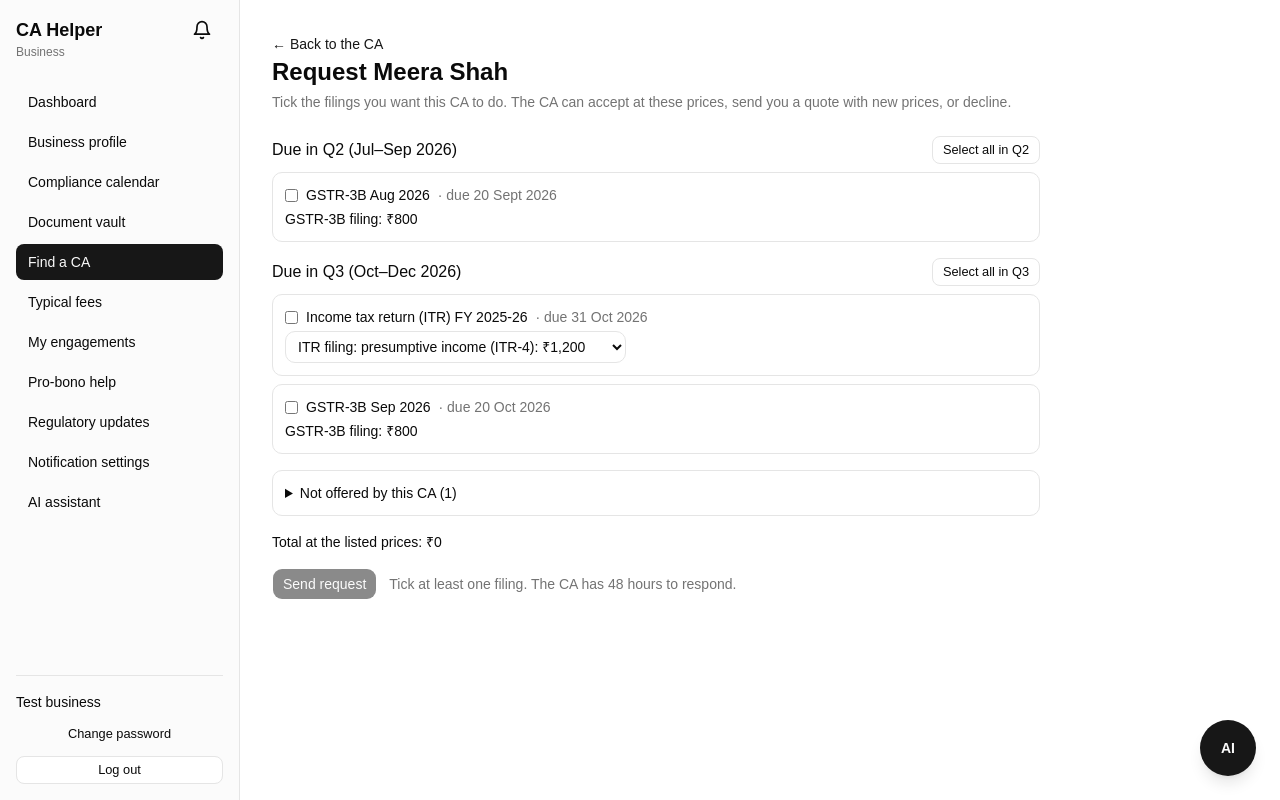
Test: Request this CA page › groups filings by quarter, selects a quarter at once, and folds away unpriced ones
expect the heading "Due in Q2 (Jul–Sep 2026)" is shown: met, box top-left (272, 138), bottom-right (457, 162)
expect the heading "Due in Q3 (Oct–Dec 2026)" is shown: met, box top-left (272, 260), bottom-right (461, 284)
Click the button "Select all in Q3": (986,272) top-left (932, 258), bottom-right (1040, 286)
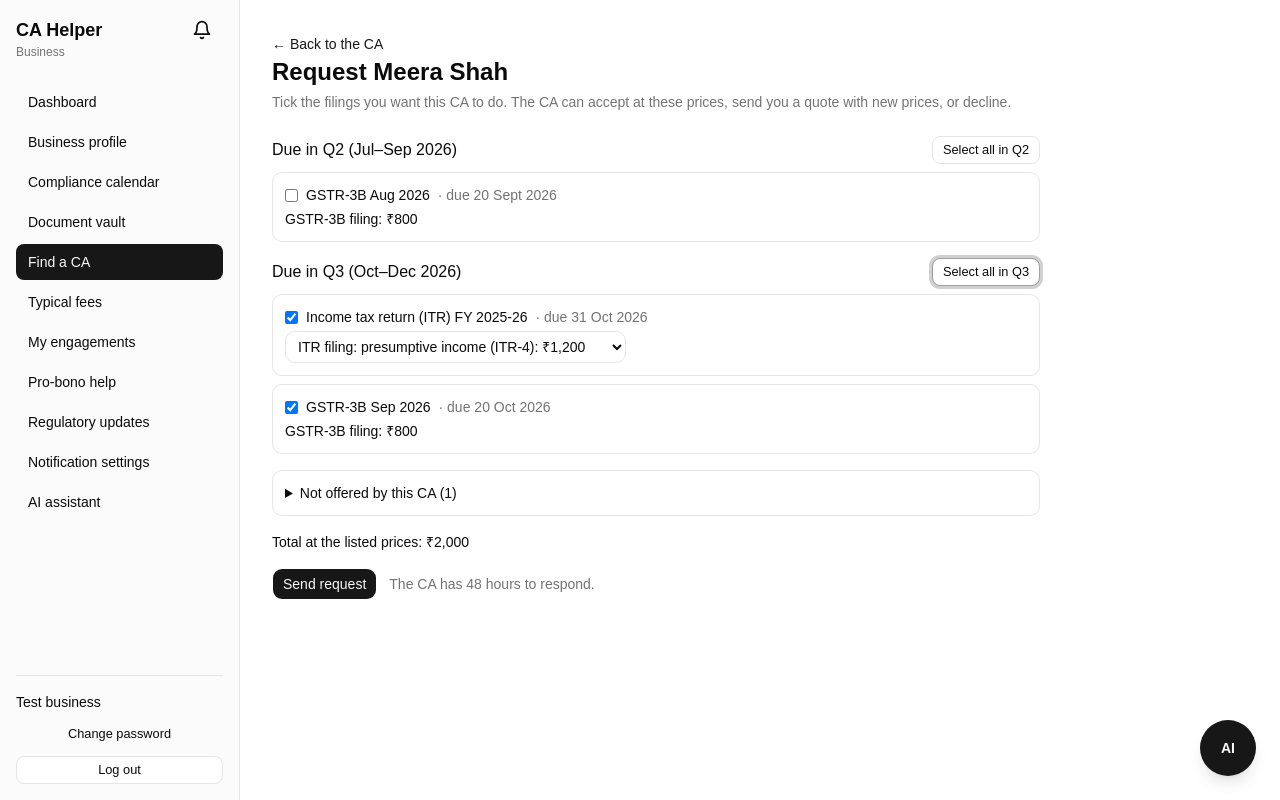
expect the checkbox labelled "GSTR-3B Aug 2026 · due 20 Sept 2026" is not checked: met, box top-left (285, 188), bottom-right (298, 202)
expect the checkbox labelled "Income tax return (ITR) FY 2025-26 · due 31 Oct 2026" is checked: met, box top-left (285, 310), bottom-right (298, 324)
expect the checkbox labelled "GSTR-3B Sep 2026 · due 20 Oct 2026" is checked: met, box top-left (285, 400), bottom-right (298, 414)
